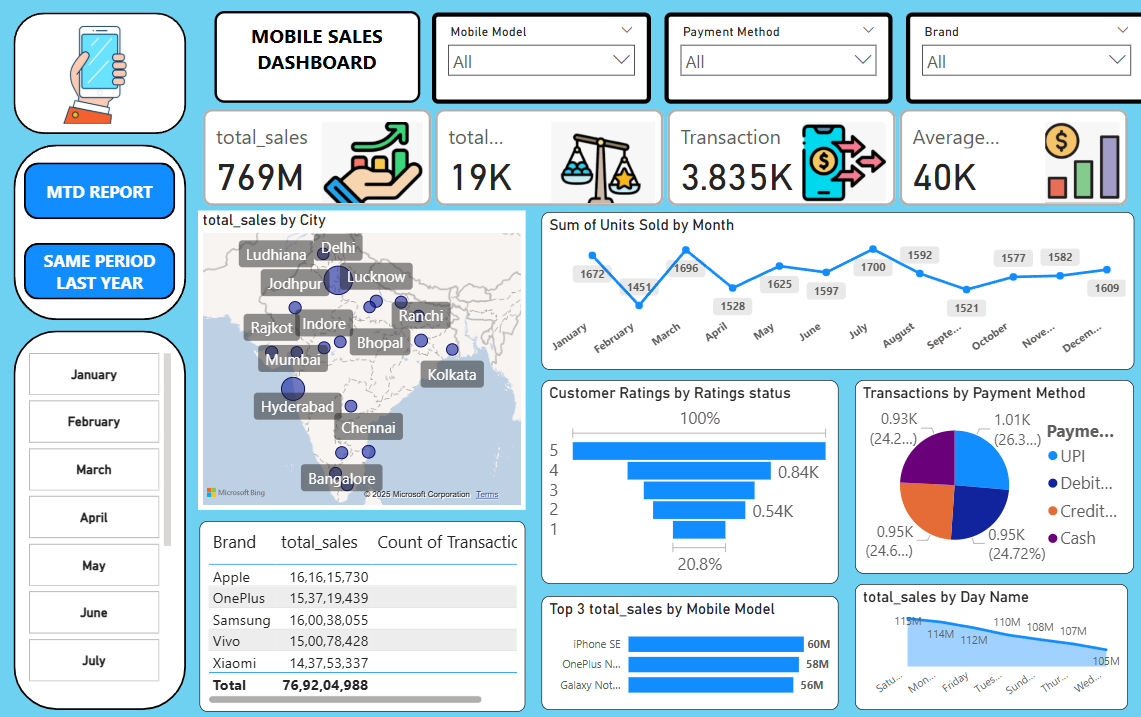

The page's visual inventory and layout, read from the dashboard file:
{"tool":"powerbi","page":{"name":"dashboard","canvas":[1280,807],"ordinal":0},"visuals":[{"type":"shape","box":[21.1,164.3,191.9,195.2],"z":0},{"type":"shape","box":[21.1,17.9,191.9,135],"z":1000},{"type":"image","box":[21.1,26,191.9,120.4],"z":2000},{"type":"shape","box":[21.7,371.7,191.7,421.7],"z":3000},{"type":"advancedSlicerVisual","fields":{"Values":["custom calendar.date.Variation.Date Hierarchy.Month"]},"box":[33.3,391.7,168.3,381.7],"z":4000},{"type":"cardVisual","fields":{"Data":["sales_data.total_sales","Sum(sales_data.Units Sold)","CountNonNull(sales_data.Transaction ID)","Avg(sales_data.Price Per Unit)"]},"box":[226.1,120.4,1039.4,118.7],"z":5000},{"type":"slicer","fields":{"Values":["sales_data.Mobile Model"]},"box":[486.1,18.2,243,101.3],"z":6000},{"type":"slicer","fields":{"Values":["sales_data.Payment Method"]},"box":[745.3,18.2,253.2,101.3],"z":7000},{"type":"slicer","fields":{"Values":["sales_data.Brand"]},"box":[1012.7,18.2,267.3,101.3],"z":8000},{"type":"textbox","box":[245,16.7,228.3,101.7],"z":9000},{"type":"map","fields":{"Category":["sales_data.City"],"Size":["sales_data.total_sales"]},"box":[225.9,237.9,363.8,332.8],"z":10000},{"type":"lineChart","fields":{"Category":["custom calendar.date.Variation.Date Hierarchy.Month"],"Y":["Sum(sales_data.Units Sold)"]},"box":[608.3,240,658.3,175],"z":11000},{"type":"funnel","title":"Customer Ratings by Ratings status","fields":{"Category":["sales_data.Customer Ratings"],"Y":["CountNonNull(sales_data.Customer Ratings)"]},"box":[608.3,426.7,330,226.7],"z":12000},{"type":"pieChart","title":" Transactions by Payment Method","fields":{"Category":["sales_data.Payment Method"],"Y":["CountNonNull(sales_data.Transaction ID)"]},"box":[956.7,426.7,310,215],"z":13000},{"type":"barChart","title":" Top 3 total_sales by Mobile Model","fields":{"Y":["sales_data.total_sales"],"Category":["sales_data.Mobile Model"]},"box":[608.3,666.7,330,126.7],"z":14000},{"type":"areaChart","fields":{"Category":["custom calendar.Day Name"],"Y":["sales_data.total_sales"]},"box":[956.7,653.3,303.3,140],"z":15000},{"type":"tableEx","fields":{"Values":["sales_data.Brand","sales_data.total_sales","CountNonNull(sales_data.Transaction ID)"]},"box":[227.6,582.8,362.1,212.1],"z":16000},{"type":"pageNavigator","box":[32.8,184.5,169,153.4],"z":18003}]}

Visuals, with their boxes in screenshot pixels (x1, y1, x2, y2), scaled from the page's 1280x807 canvas onto the 1141x717 screenshot:
shape: [19,146,190,319]
shape: [19,16,190,136]
image: [19,23,190,130]
shape: [19,330,190,705]
advancedSlicerVisual - custom calendar.date.Variation.Date Hierarchy.Month: [30,348,180,687]
cardVisual - sales_data.total_sales x Sum(sales_data.Units Sold): [202,107,1128,212]
slicer - sales_data.Mobile Model: [433,16,650,106]
slicer - sales_data.Payment Method: [664,16,890,106]
slicer - sales_data.Brand: [903,16,1140,106]
textbox: [218,15,422,105]
map - sales_data.City x sales_data.total_sales: [201,211,526,507]
lineChart - custom calendar.date.Variation.Date Hierarchy.Month x Sum(sales_data.Units Sold): [542,213,1129,369]
"Customer Ratings by Ratings status" funnel: [542,379,836,581]
" Transactions by Payment Method" pieChart: [853,379,1129,570]
" Top 3 total_sales by Mobile Model" barChart: [542,592,836,705]
areaChart - custom calendar.Day Name x sales_data.total_sales: [853,580,1123,705]
tableEx - sales_data.Brand x sales_data.total_sales: [203,518,526,706]
pageNavigator: [29,164,180,300]
